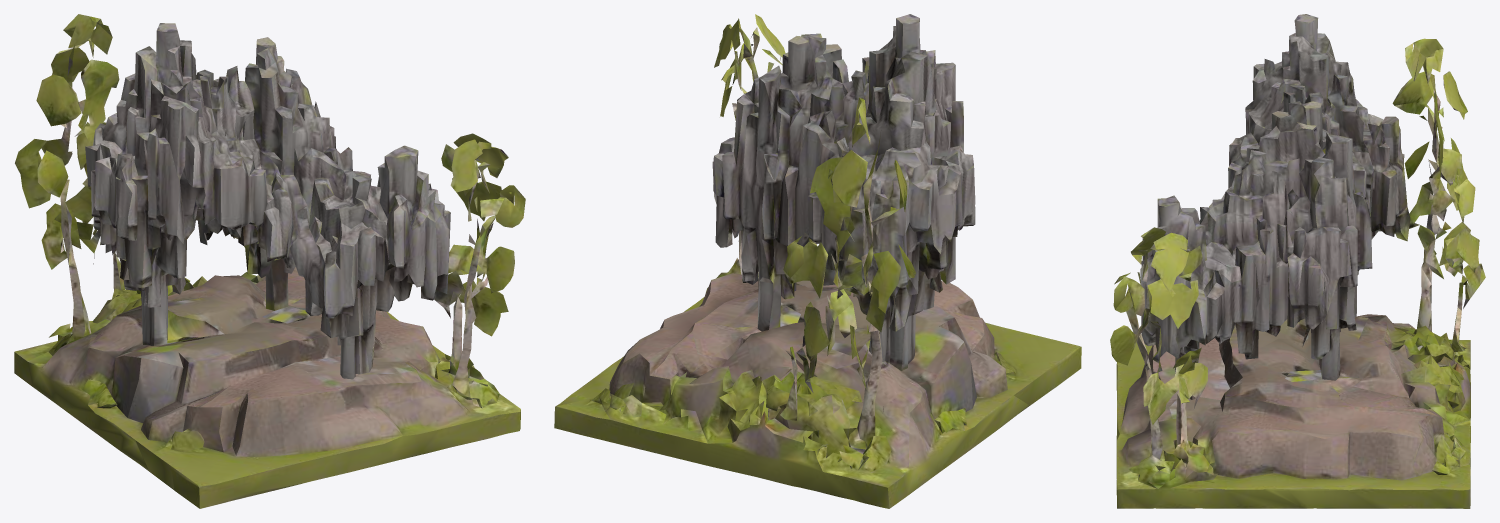
The model's file is sibelius-monument.glb.
The picture shows the model from 3 angles, left to right: view 1: azimuth 30°, elevation 25°; view 2: azimuth 150°, elevation 25°; view 3: azimuth 270°, elevation 25°; orthographic projection. The views are drawn at different scales.
Visible parts, largest first — view 1: logan-textured.obj; view 2: logan-textured.obj; view 3: logan-textured.obj.
Part boxes in pixels (bbox=[...]): logan-textured.obj: bbox=[14, 14, 525, 508]; logan-textured.obj: bbox=[554, 14, 1081, 508]; logan-textured.obj: bbox=[1110, 14, 1485, 508].
Bounding box in the file's own units: 0.8831 × 1 × 0.9123.
Materials: 1 (1 with a texture image).
